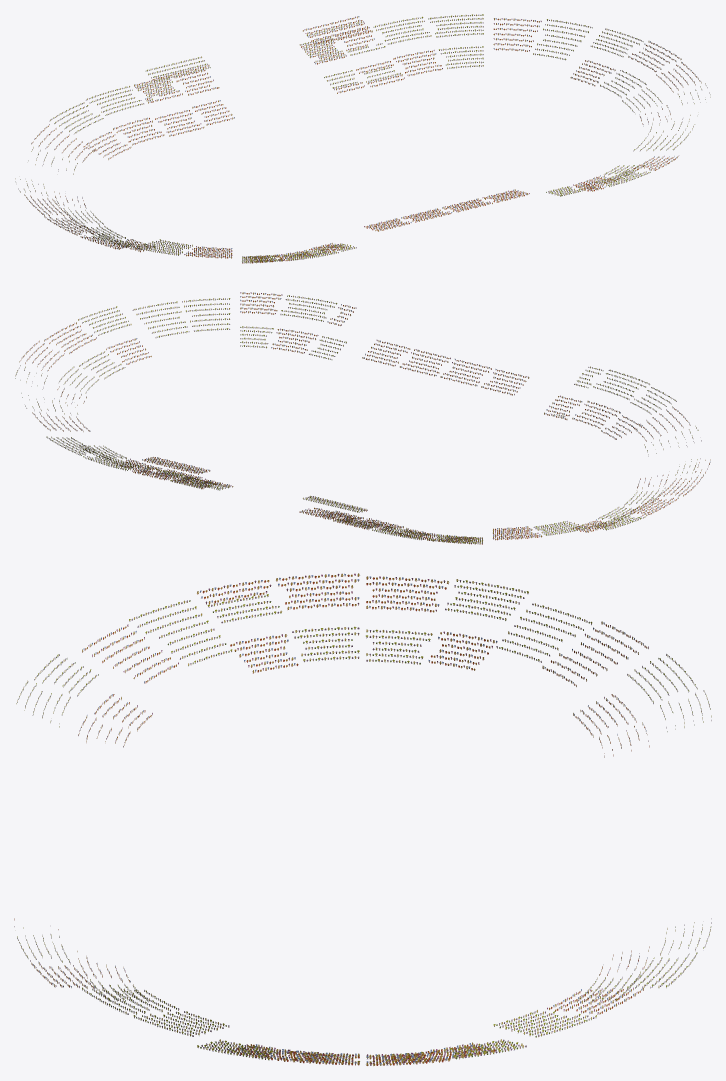
The model's file is crowd_2.glb.
3 views of the same model, one above another, from view 1: azimuth 30°, elevation 25°; view 2: azimuth 150°, elevation 25°; view 3: azimuth 270°, elevation 25° (orthographic). The views are drawn at different scales.
Visible parts, largest first — view 1: Object_44.003; view 2: Object_44.003; view 3: Object_44.003.
Boxes of the visible parts, <box> form: Object_44.003: <box>15,14,710,263</box>; Object_44.003: <box>15,292,710,544</box>; Object_44.003: <box>14,573,711,1065</box>.
Size of the model in its own units: 552 by 33.29 by 333.
1 material, 1 textured.
